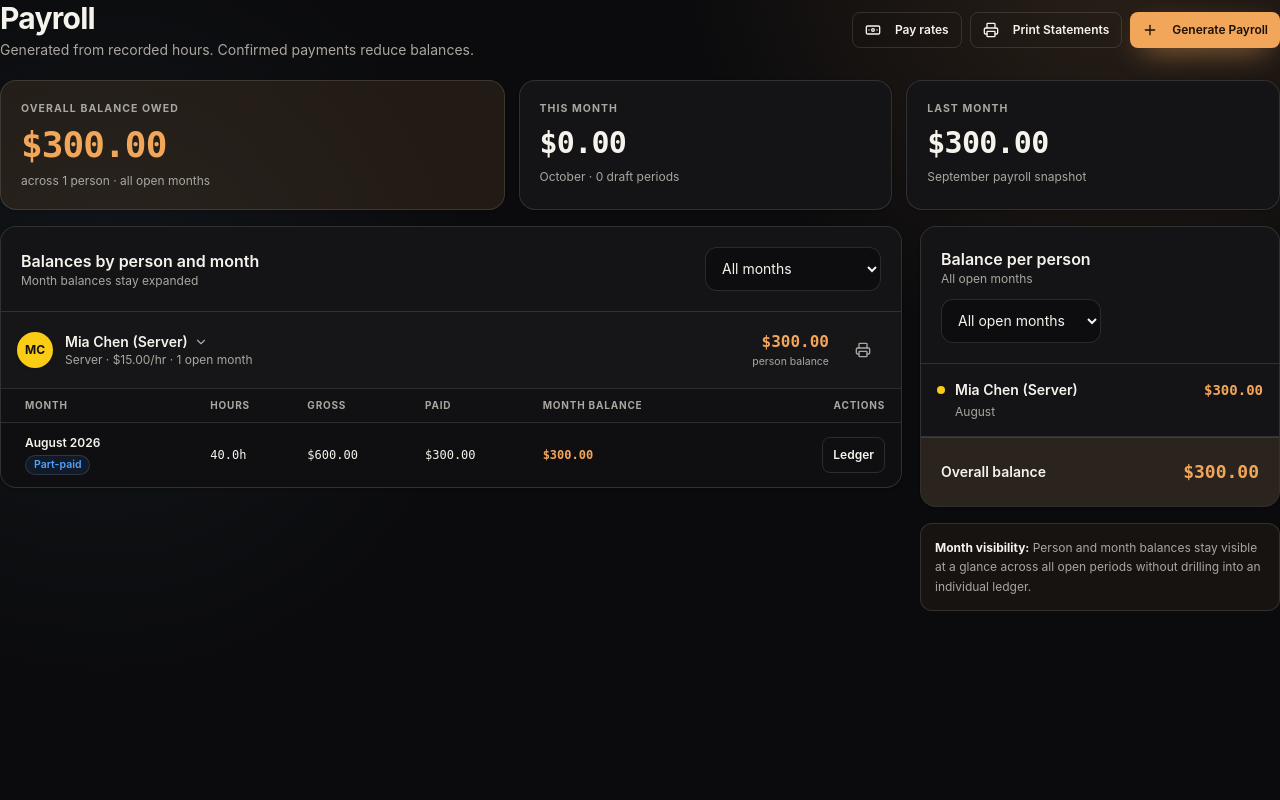
Test: PayrollWorkspace › PeriodLedgerPanel's single-statement print renders the shared letterhead and a dynamic filename
Expected: the text "Overall balance owed" is shown, [21,102,179,115]
Click the button with aria-label "Open ledger for August 2026" at [854, 455], box [822,437,885,473]
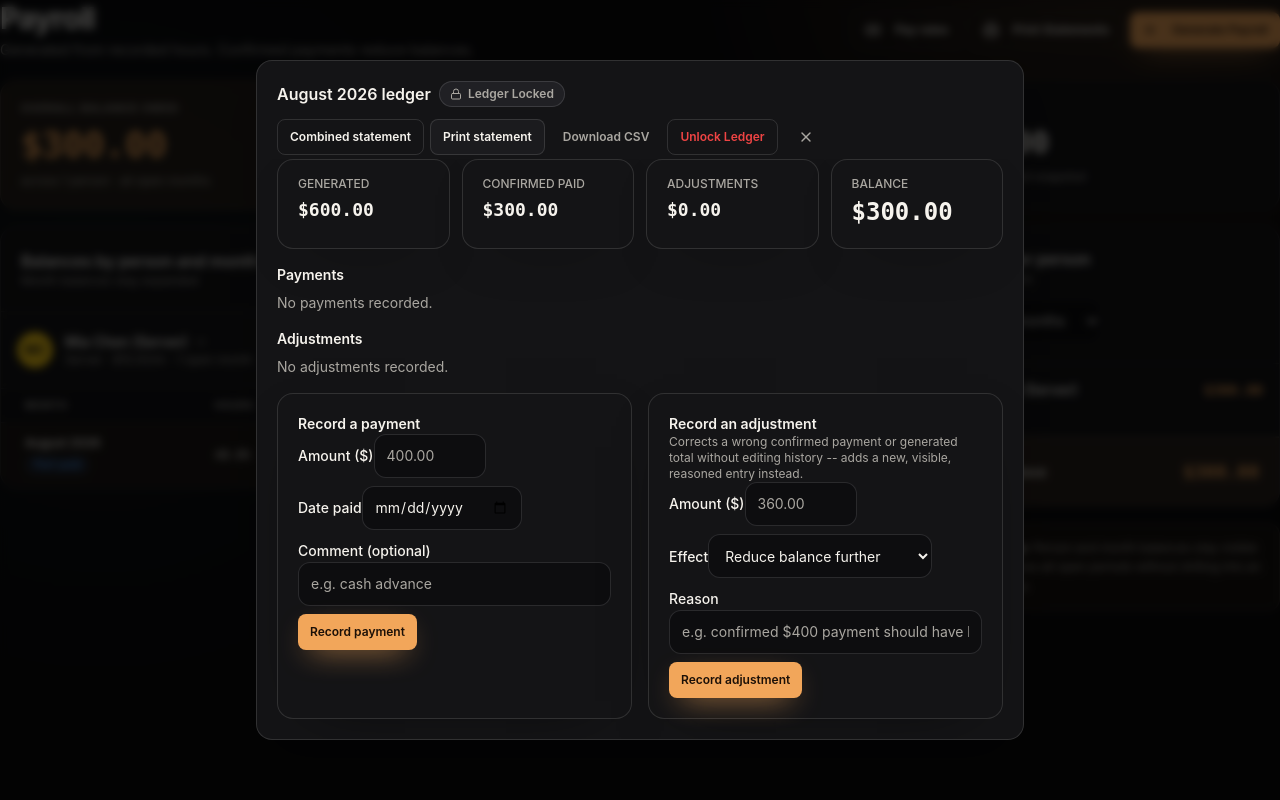
Now the heading "August 2026 ledger" is shown, box [277,82,431,106]
Click the button "Print statement" at [487, 137], box [430,119,545,155]
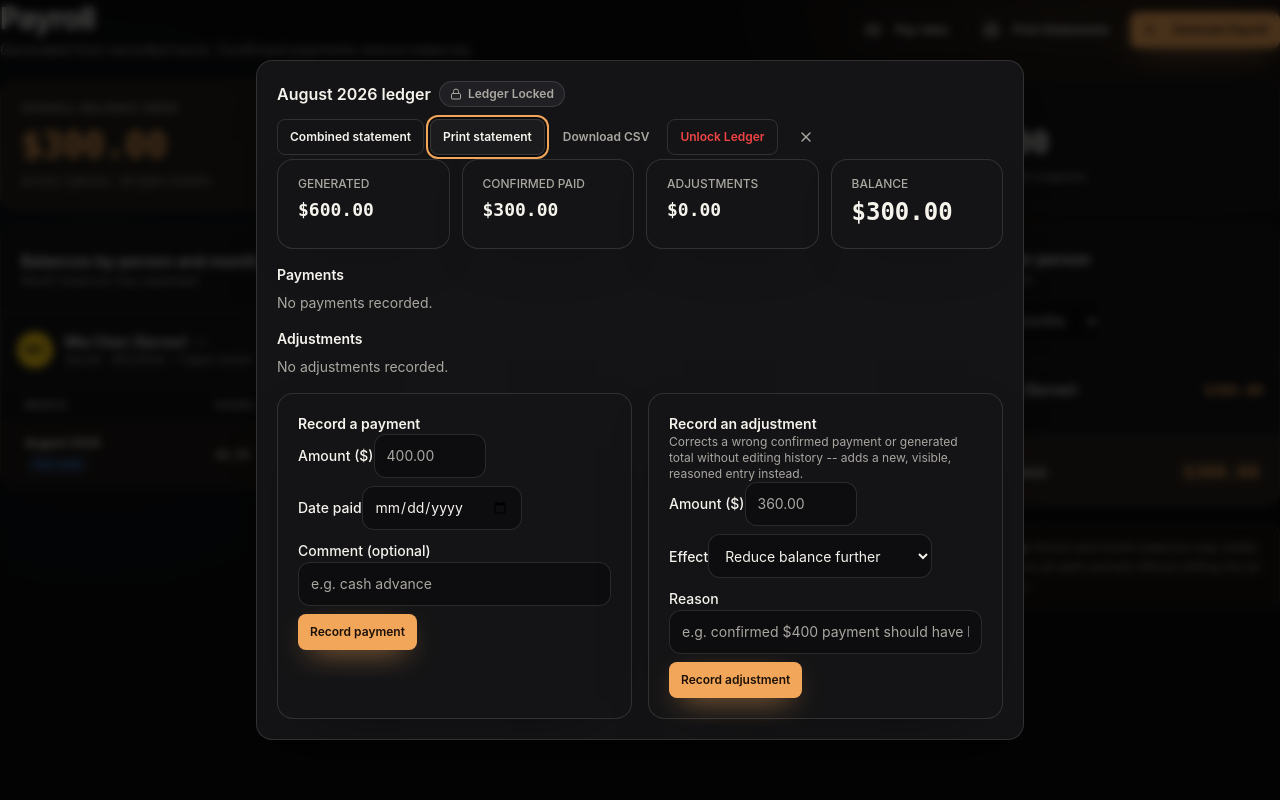
Click the button named "Close dialog" at [806, 137], box [784,115,828,159]
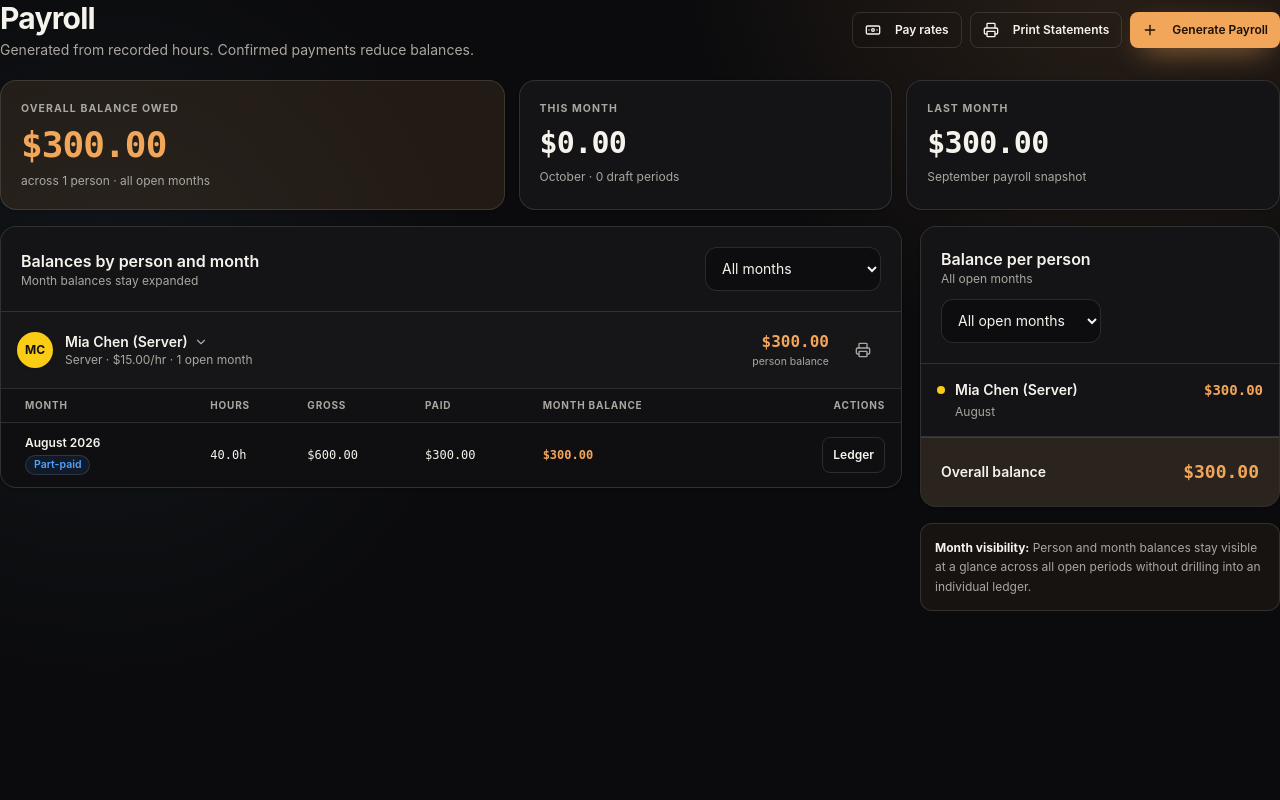
Now the heading "August 2026 ledger" is gone
